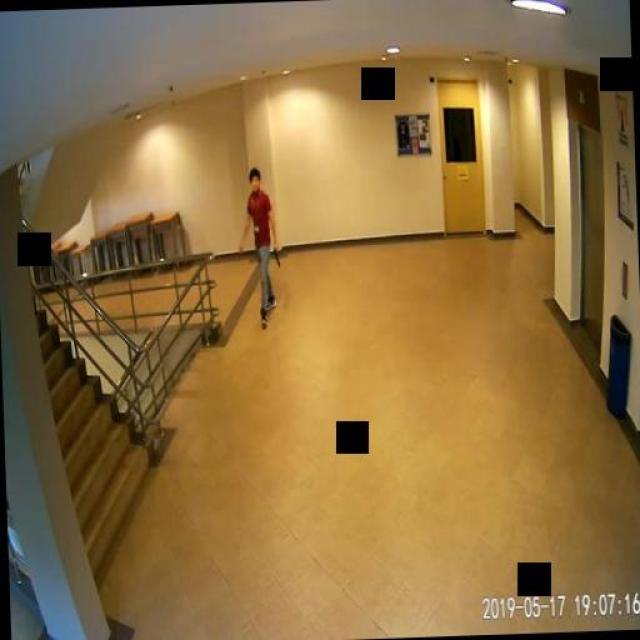gun: (271, 241, 279, 264)
